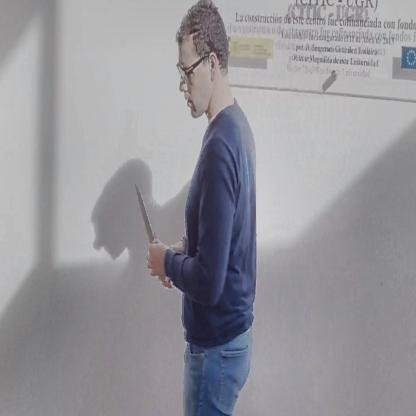knife: (131, 174, 164, 276)
